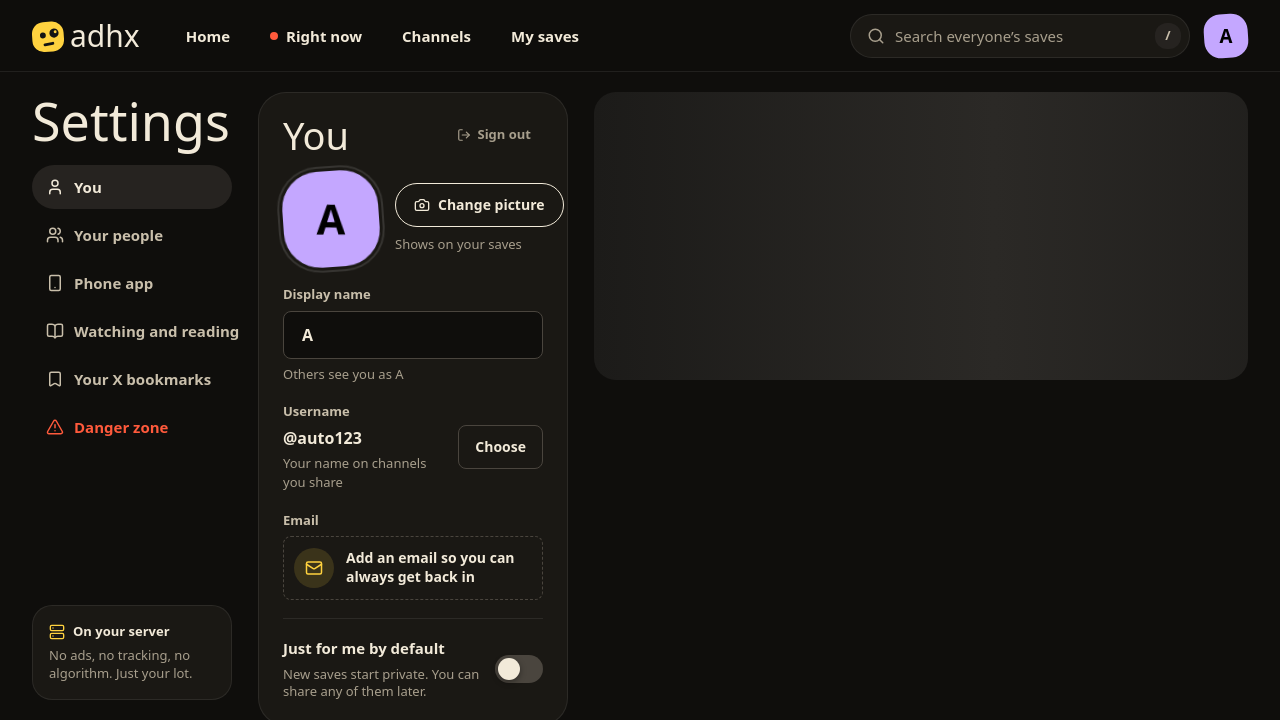
Scenario: SettingsClient — Username row › a successful claim flips the row to read-only without a reload
Expected: the text "@auto123" is shown, [283,426,362,450]
Click the button with aria-label "Choose username" at (501, 447), box [458,425,543,469]
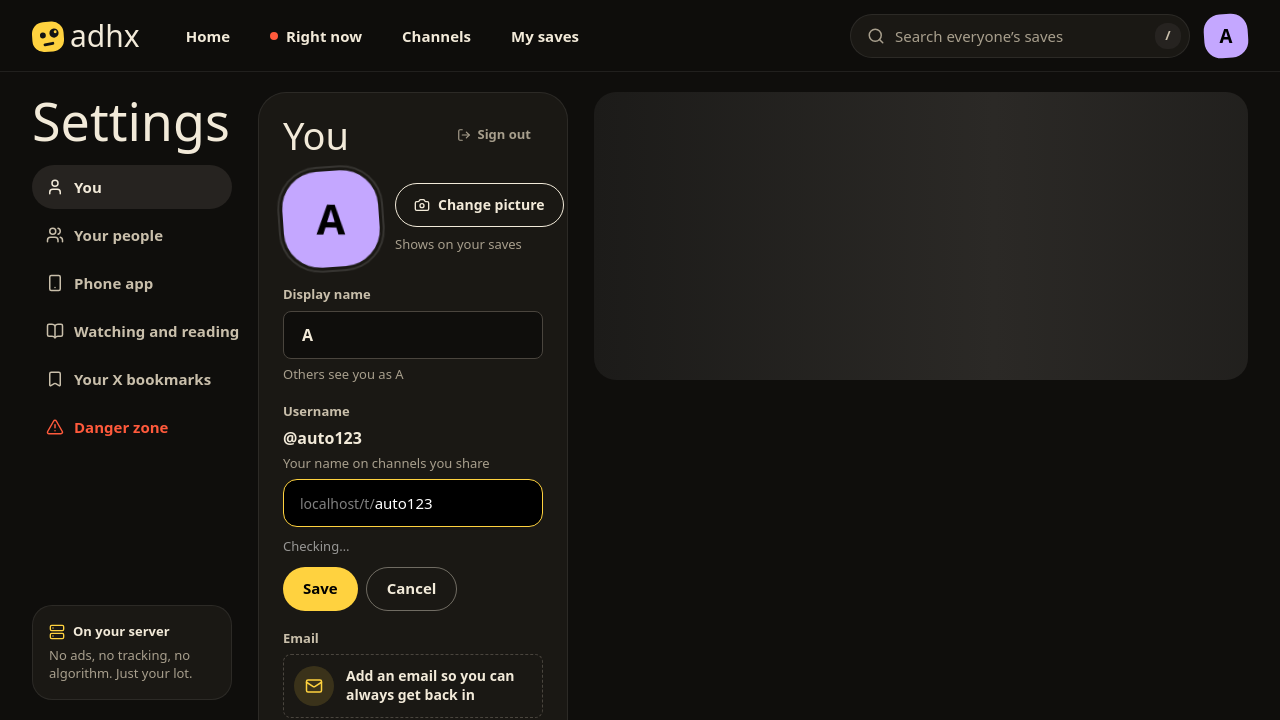
Replace the text in the field named "Username" with "chosen" at (454, 503), box [375,480,534,526]
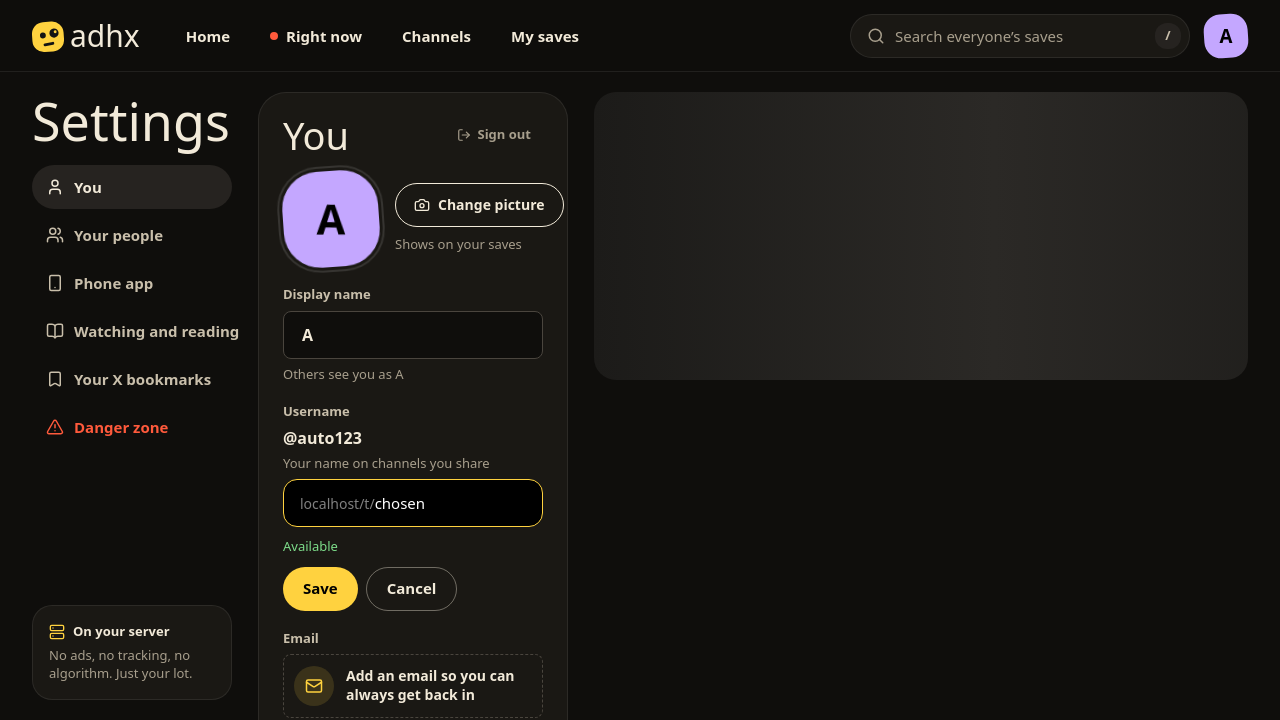
Expected: the text "Available" is shown, [283,537,338,555]
Click the button "Save" at (320, 589), box [283,567,358,611]
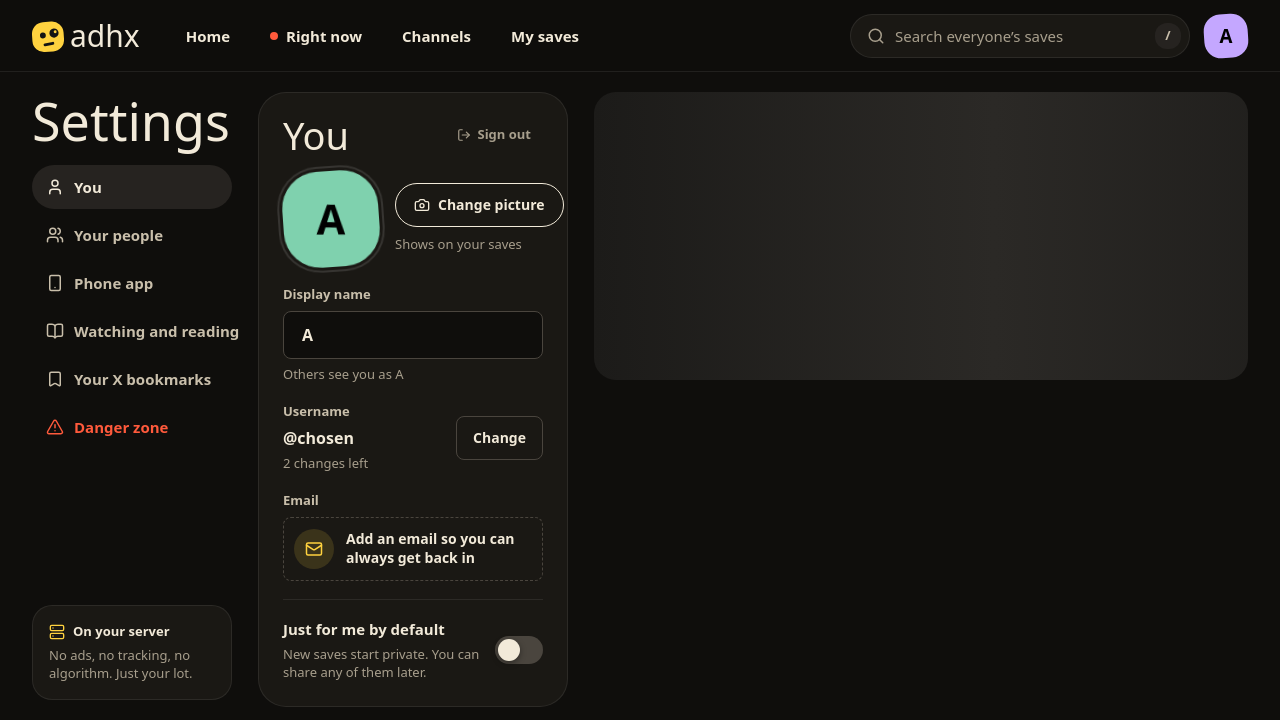
Expected: the text "@chosen" is shown, [283,426,354,450]
Expected: the text "2 changes left" is shown, [283,454,368,472]
Expected: the button with aria-label "Change username" is shown, [456,416,543,460]
